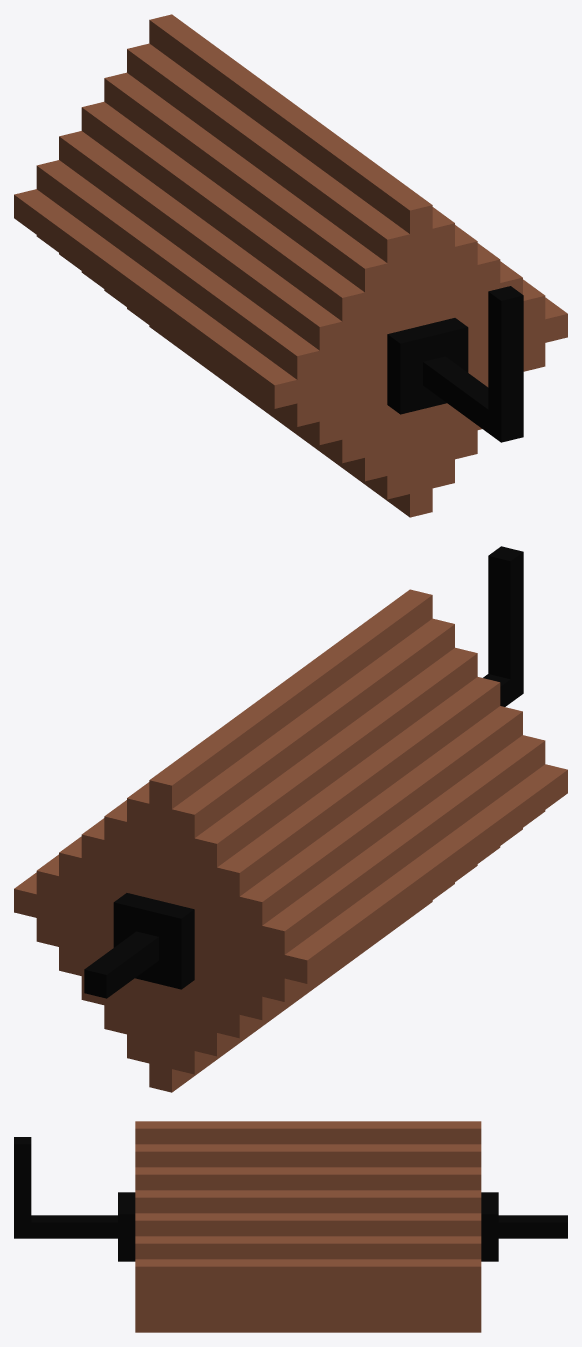
Rendered from well_lift.obj.
3 renders of one model, top to bottom at view 1: azimuth 30°, elevation 25°; view 2: azimuth 150°, elevation 25°; view 3: azimuth 270°, elevation 25°, orthographic. The views are drawn at different scales.
Bounding box in the file's own units: 1.3 × 1.3 × 3.2.
1 material, 1 textured.
